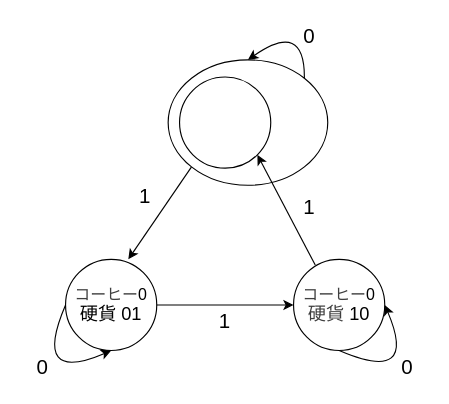
Some shapes in this 449 by 404 pixel diagram are drawn without their labels. Here are the shapes that lost their labels. From the top down, the box of each, then its label:
(178, 76, 271, 168): コーヒー1
(167, 59, 328, 185): 硬貨 00
